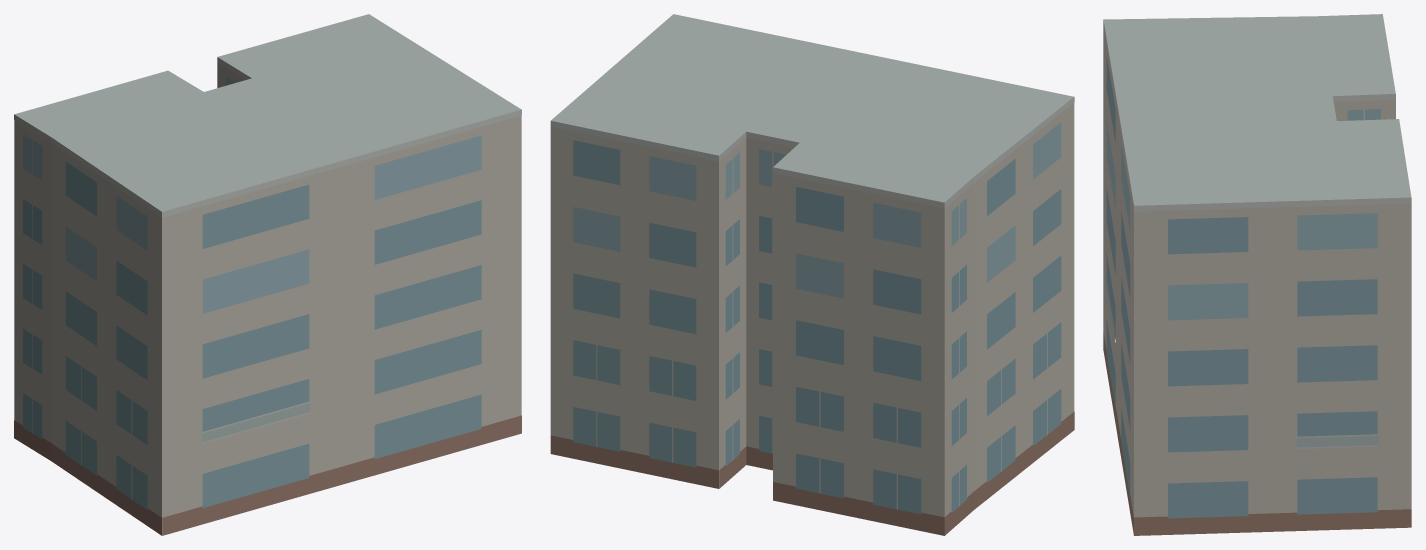
Rendered from survey-upis-32749179.glb.
The picture shows the model from 3 angles, left to right: view 1: azimuth 30°, elevation 25°; view 2: azimuth 150°, elevation 25°; view 3: azimuth 270°, elevation 25°; orthographic projection. The views are drawn at different scales.
Visible parts, largest first — view 1: survey-upis-32749179.tmp; view 2: survey-upis-32749179.tmp; view 3: survey-upis-32749179.tmp.
Boxes of the visible parts, x1,y1,x2,y2 form: survey-upis-32749179.tmp: [14, 14, 521, 535]; survey-upis-32749179.tmp: [550, 14, 1074, 535]; survey-upis-32749179.tmp: [1103, 14, 1411, 535].
Bounding box in the file's own units: 17.07 × 13.7 × 11.6.
